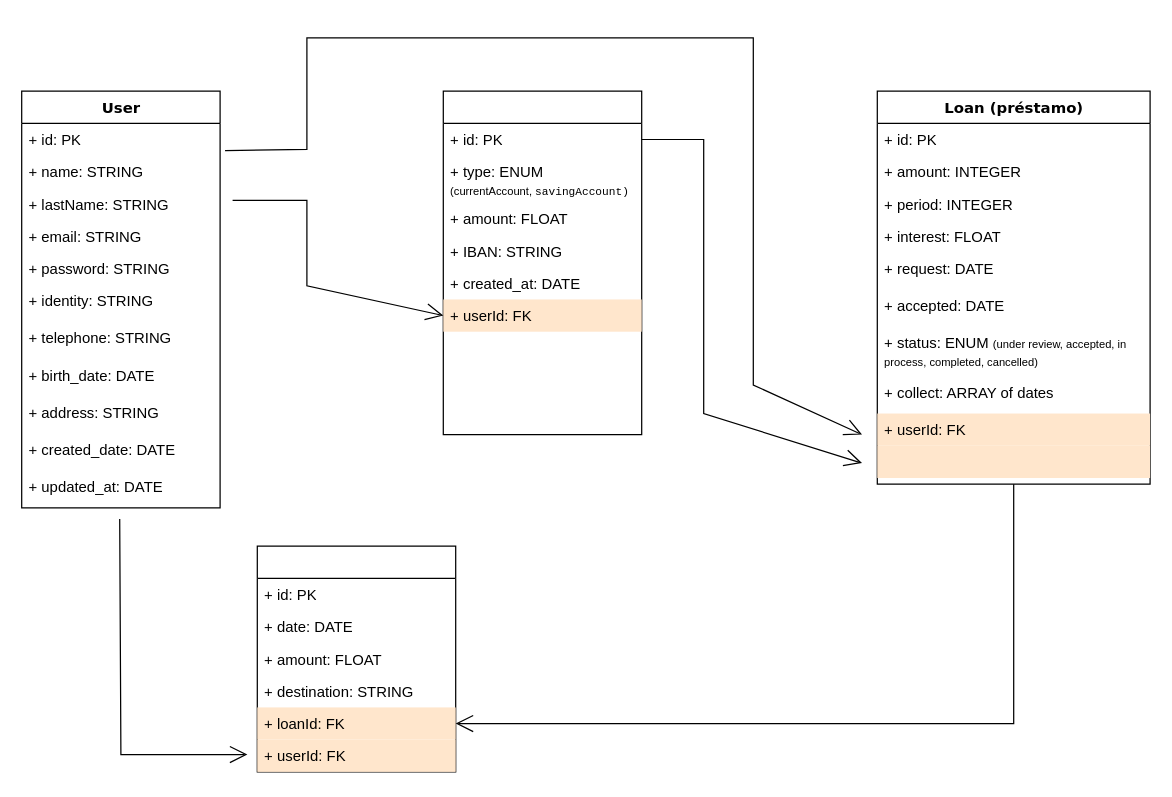
Some shapes in this 1172 by 797 pixel diagram are drawn without their labels. The box of each missing label's shape, as (x1, y1, x2, y2) in pixels:
+ bankAccountId: FK: (877, 445, 1149, 477)
Bank Account: (442, 90, 642, 435)
Payment history: (256, 545, 456, 772)
